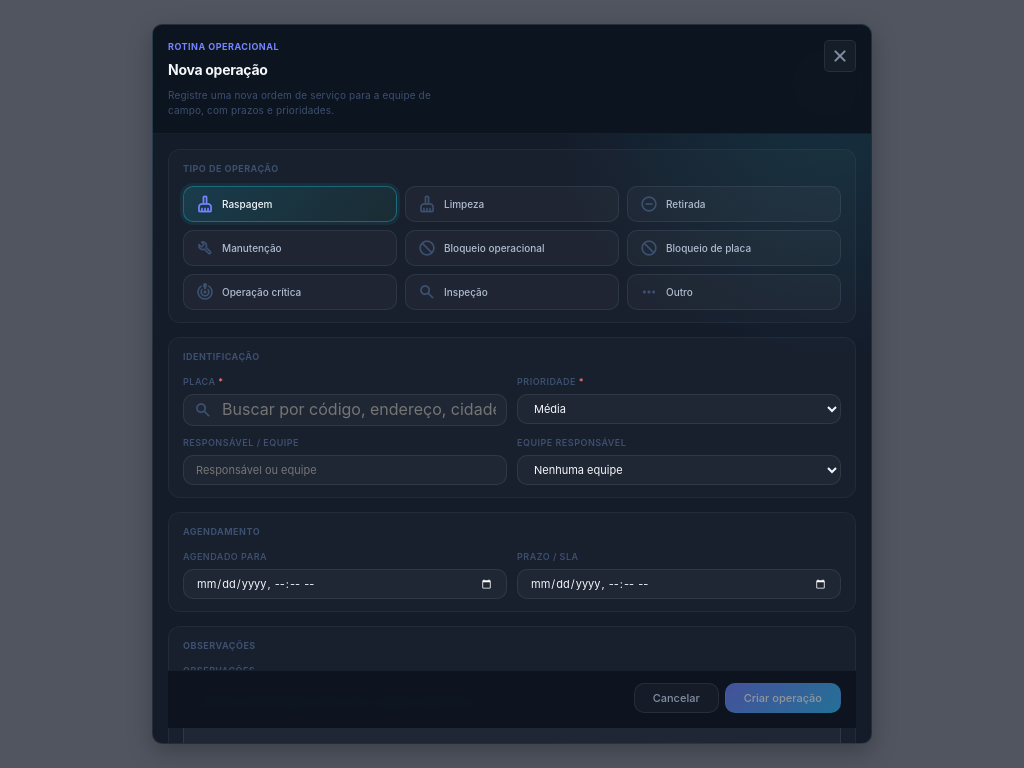
OperationFormModal › permite trocar o tipo de operação pelos botões do seletor
Click the radio button labelled "Bloqueio operacional". click: [512, 248]
box: x1=405 y1=230 x2=619 y2=266
(page scrolled)
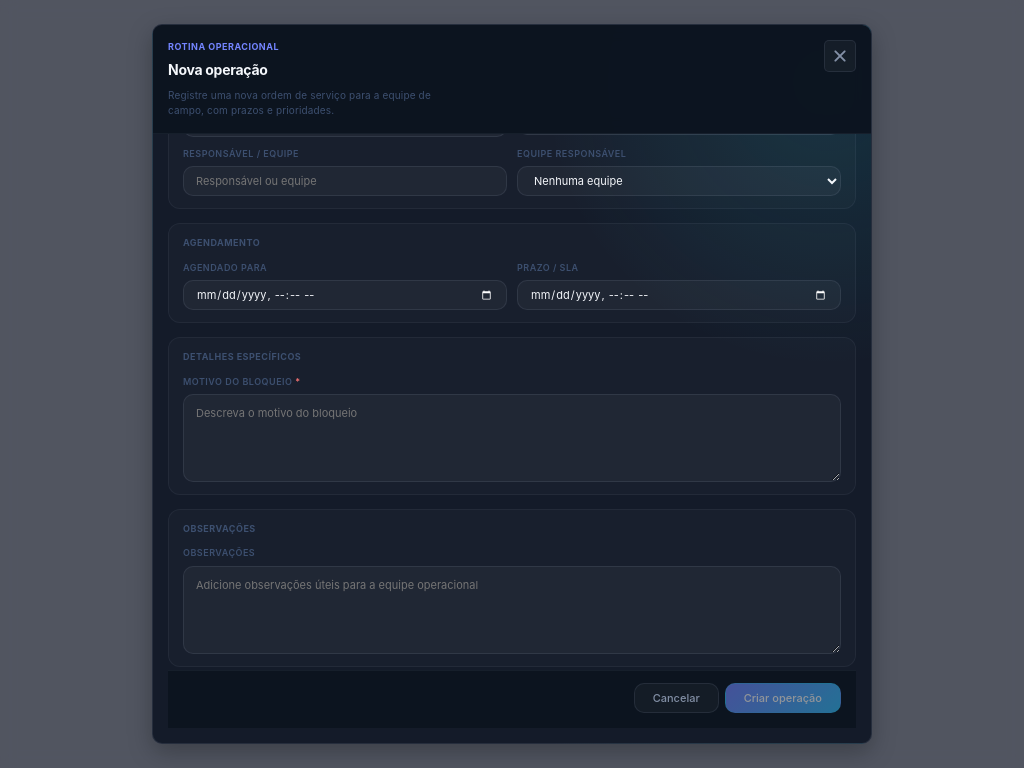
Expected: the text box labelled "Motivo do bloqueio *" is shown, x1=183 y1=394 x2=841 y2=482
